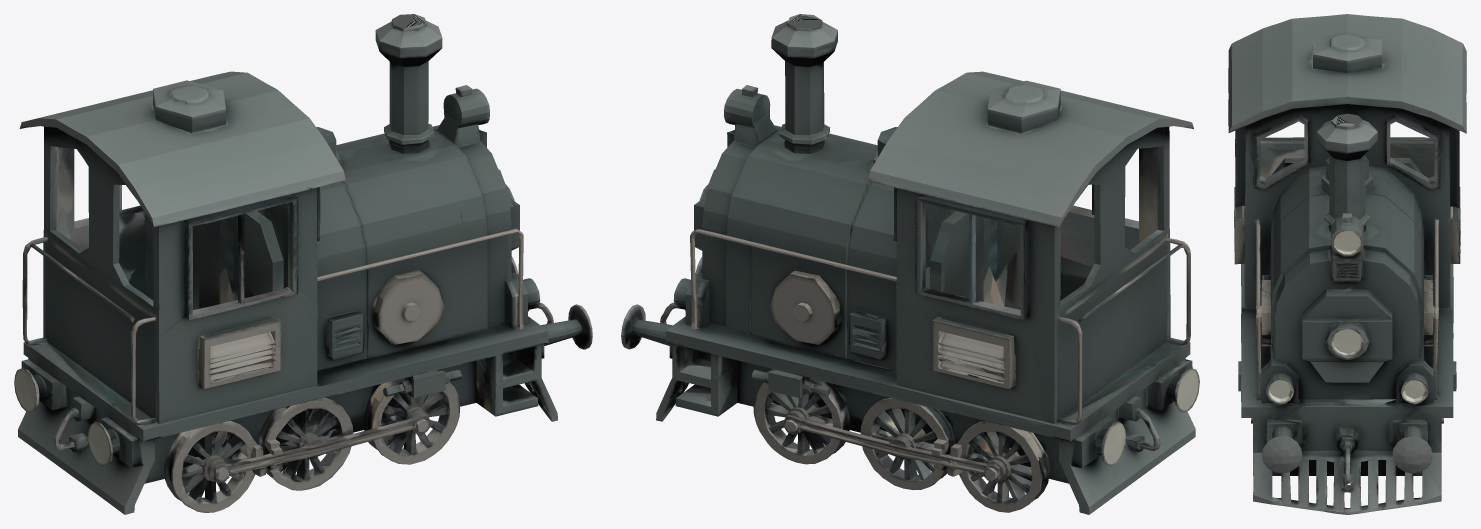
Rendered from locomotive.glb.
3 renders of one model, left to right at view 1: azimuth 30°, elevation 25°; view 2: azimuth 150°, elevation 25°; view 3: azimuth 270°, elevation 25°, orthographic. The views are drawn at different scales.
Visible parts, largest first — view 1: tripo_node_24fe004e-26be-47ff-946d-71ffcfcce0ef; view 2: tripo_node_24fe004e-26be-47ff-946d-71ffcfcce0ef; view 3: tripo_node_24fe004e-26be-47ff-946d-71ffcfcce0ef.
Boxes of the visible parts, box(x1,y1,x2,y2) form: tripo_node_24fe004e-26be-47ff-946d-71ffcfcce0ef: box(14, 14, 592, 514); tripo_node_24fe004e-26be-47ff-946d-71ffcfcce0ef: box(621, 14, 1199, 514); tripo_node_24fe004e-26be-47ff-946d-71ffcfcce0ef: box(1228, 14, 1466, 514).
Size of the model in its own units: 5.33 by 4.07 by 2.49.
Materials: 1 (1 with a texture image).
